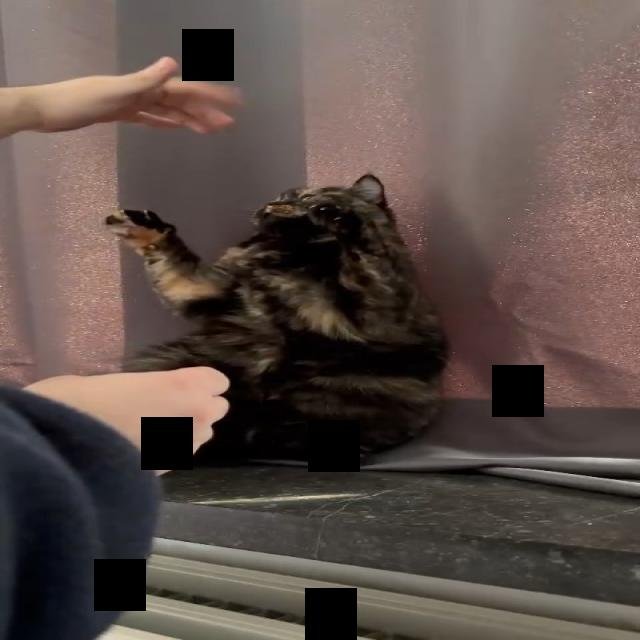authorized: (102, 172, 450, 468)
